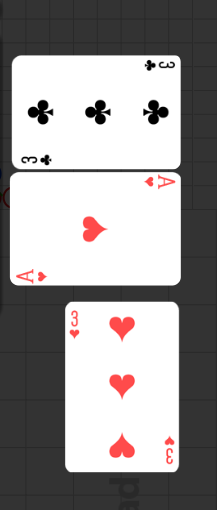3C: (141, 59, 176, 73)
3H: (162, 435, 174, 467)
AH: (141, 175, 176, 192)
